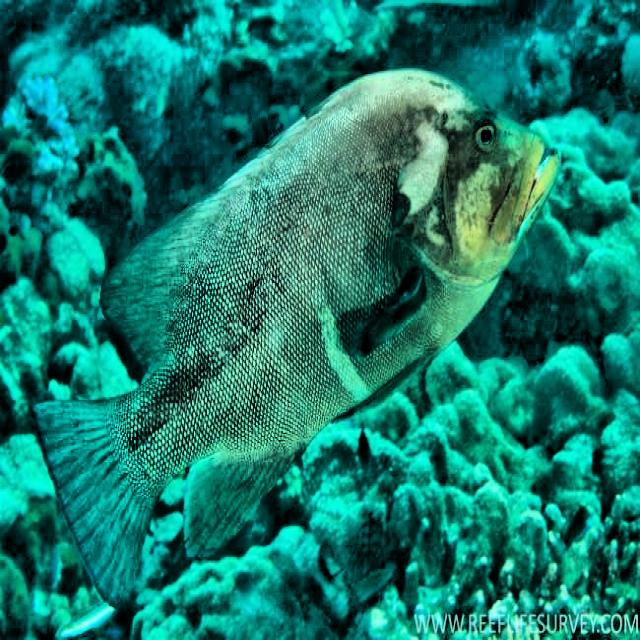fish: (38, 69, 560, 609)
